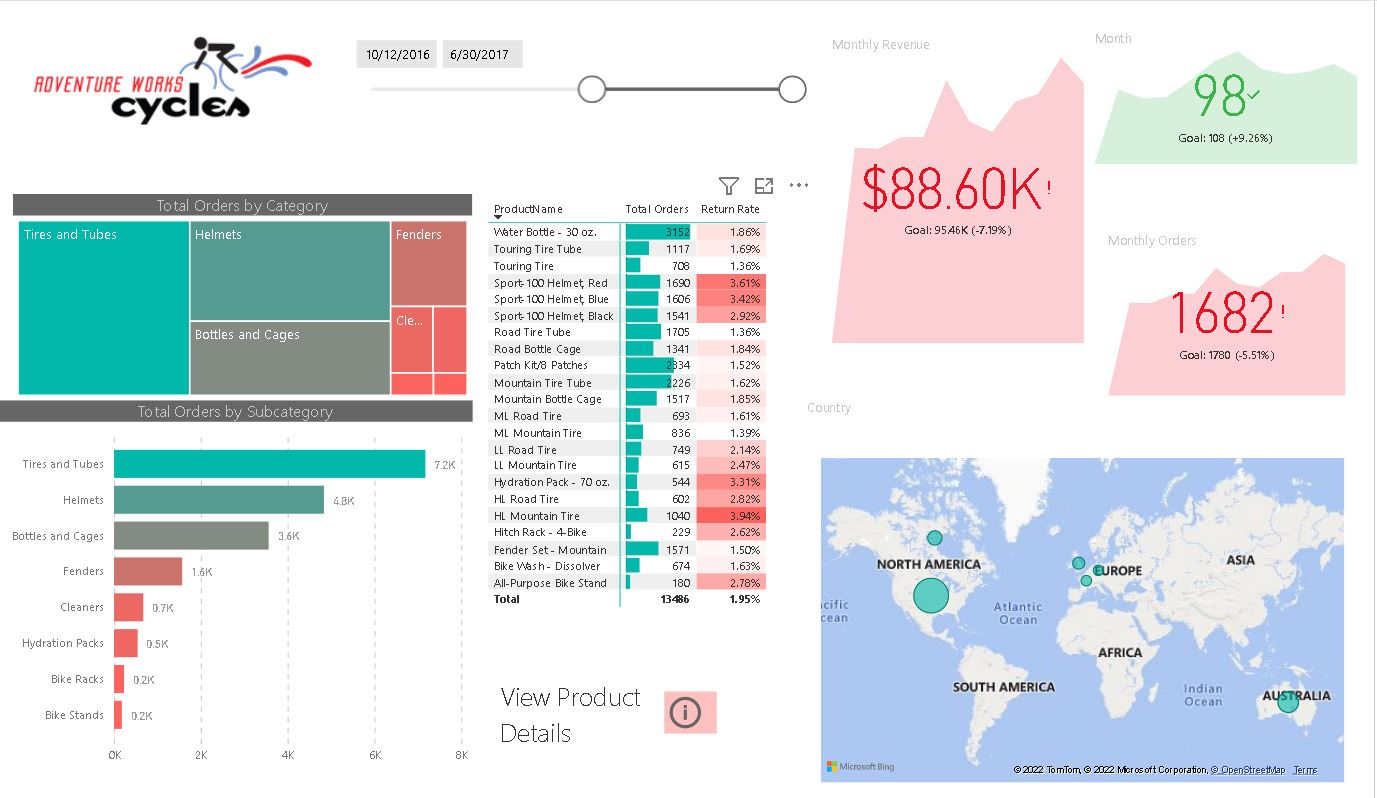

Layout of this report page (visuals, bound fields, positions):
{"tool":"powerbi","page":{"name":"Exec Summary","canvas":[1280,720],"ordinal":0},"visuals":[{"type":"image","box":[28.8,13.7,270.6,96.1],"z":0},{"type":"barChart","title":"Total Orders by Subcategory","fields":{"Y":["AW_Sales.Total Orders"],"Category":["AW_Product_Subcategory_Lookup.SubcategoryName"]},"box":[0,359.3,441.5,346.8],"z":1000},{"type":"treemap","title":"Total Orders by Category","fields":{"Group":["AW_Product_Category_Lookup.CategoryName","AW_Product_Subcategory_Lookup.SubcategoryName"],"Values":["AW_Sales.Total Orders"]},"box":[13.7,167.6,427.1,192.3],"z":2000},{"type":"pivotTable","fields":{"Rows":["AW_Product_Lookup.ProductName","AW_Product_Category_Lookup.CategoryName","AW_Product_Subcategory_Lookup.SubcategoryName"],"Values":["AW_Sales.Total Orders","AW_Returns.Return Rate"]},"box":[451.3,167.1,309.2,417.8],"z":3000},{"type":"slicer","fields":{"Values":["AW_Calendar_Lookup.Date"]},"box":[321.4,13.7,439.5,130.5],"z":4000},{"type":"kpi","title":"Monthly Revenue","fields":{"Indicator":["AW_Sales.Total Revenue"],"TrendLine":["AW_Calendar_Lookup.Start of Month"],"Goal":["AW_Sales.Prev Month Revenue"]},"box":[770.5,19.2,244.5,291.1],"z":5000},{"type":"kpi","title":"Monthly Orders","fields":{"TrendLine":["AW_Calendar_Lookup.Start of Month"],"Goal":["AW_Sales.Prev Month Orders"],"Indicator":["AW_Sales.Total Orders"]},"box":[1027.3,201.9,230.7,157.9],"z":6000},{"type":"kpi","title":"Month","fields":{"TrendLine":["AW_Calendar_Lookup.Start of Month"],"Indicator":["AW_Returns.Total Returns"],"Goal":["AW_Returns.Prev Month Returns"]},"box":[1014.6,13.5,254.7,130.7],"z":7000},{"type":"map","fields":{"Category":["AW_Territories_Lookup.Country"],"Size":["AW_Sales.Total Orders"]},"box":[760.9,407.9,497.2,311.8],"z":8000},{"type":"treemap","fields":{"Group":["AW_Territories_Lookup.Country"]},"box":[747.8,357.1,521.4,32.3],"z":9000},{"type":"textbox","box":[461,612.8,192.2,93.3],"z":9001},{"type":"actionButton","box":[620.2,629.8,49.2,39.6],"z":9002}]}

Visuals, with their boxes in screenshot pixels (x1, y1, x2, y2), scaled from the page's 1280x720 canvas onto the 1377x798 screenshot:
image: 31 15 322 122
"Total Orders by Subcategory" barChart: 0 398 475 783
"Total Orders by Category" treemap: 15 186 474 399
pivotTable - AW_Product_Lookup.ProductName x AW_Product_Category_Lookup.CategoryName: 486 185 818 648
slicer - AW_Calendar_Lookup.Date: 346 15 819 160
"Monthly Revenue" kpi: 829 21 1092 344
"Monthly Orders" kpi: 1105 224 1353 399
"Month" kpi: 1091 15 1365 160
map - AW_Territories_Lookup.Country x AW_Sales.Total Orders: 819 452 1353 797
treemap - AW_Territories_Lookup.Country: 804 396 1365 432
textbox: 496 679 703 783
actionButton: 667 698 720 742
